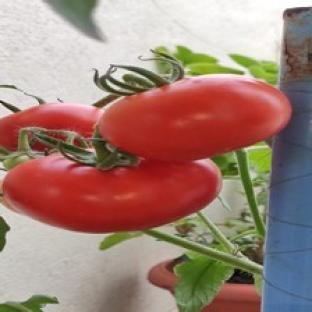Tomato: (3, 154, 221, 232), (99, 74, 291, 161), (0, 104, 103, 150)
